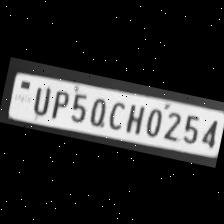0: (84, 92, 108, 127), (140, 103, 164, 138)
2: (158, 106, 182, 142)
4: (196, 113, 222, 148)
5: (63, 88, 90, 125), (176, 110, 201, 144)
C: (102, 96, 127, 132)
H: (121, 100, 146, 136)
P: (46, 85, 71, 120)
U: (25, 80, 52, 116)
